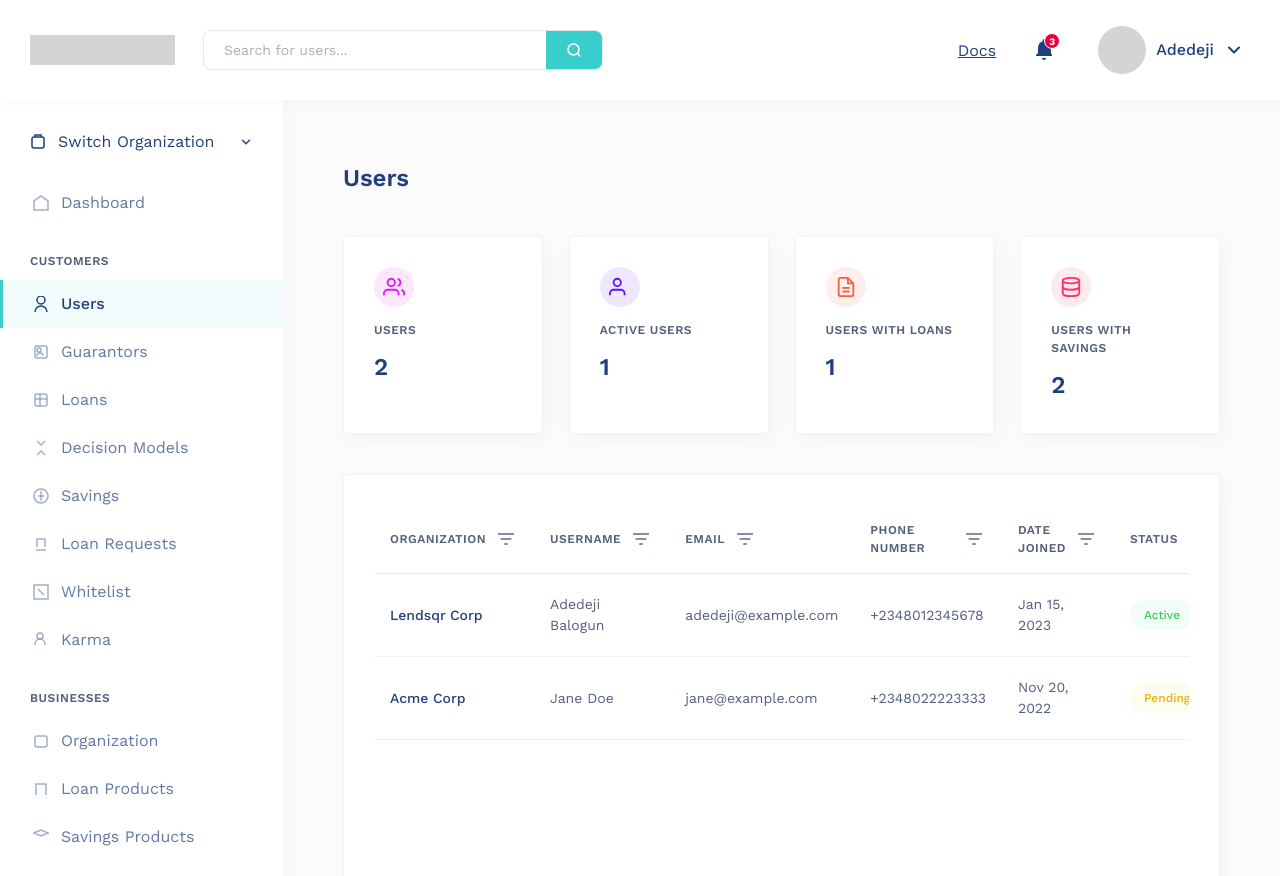
UsersList Page › toggles column header filter popover card when clicked
This screenshot has width=1280, height=876.
Expected: the text "Adedeji Balogun" is shown, x1=534 y1=574 x2=669 y2=656
# Find and click the organization filter button
Click the button named "Filter Organization".
click(506, 539)  # box x1=494 y1=529 x2=518 y2=549
(page scrolled)
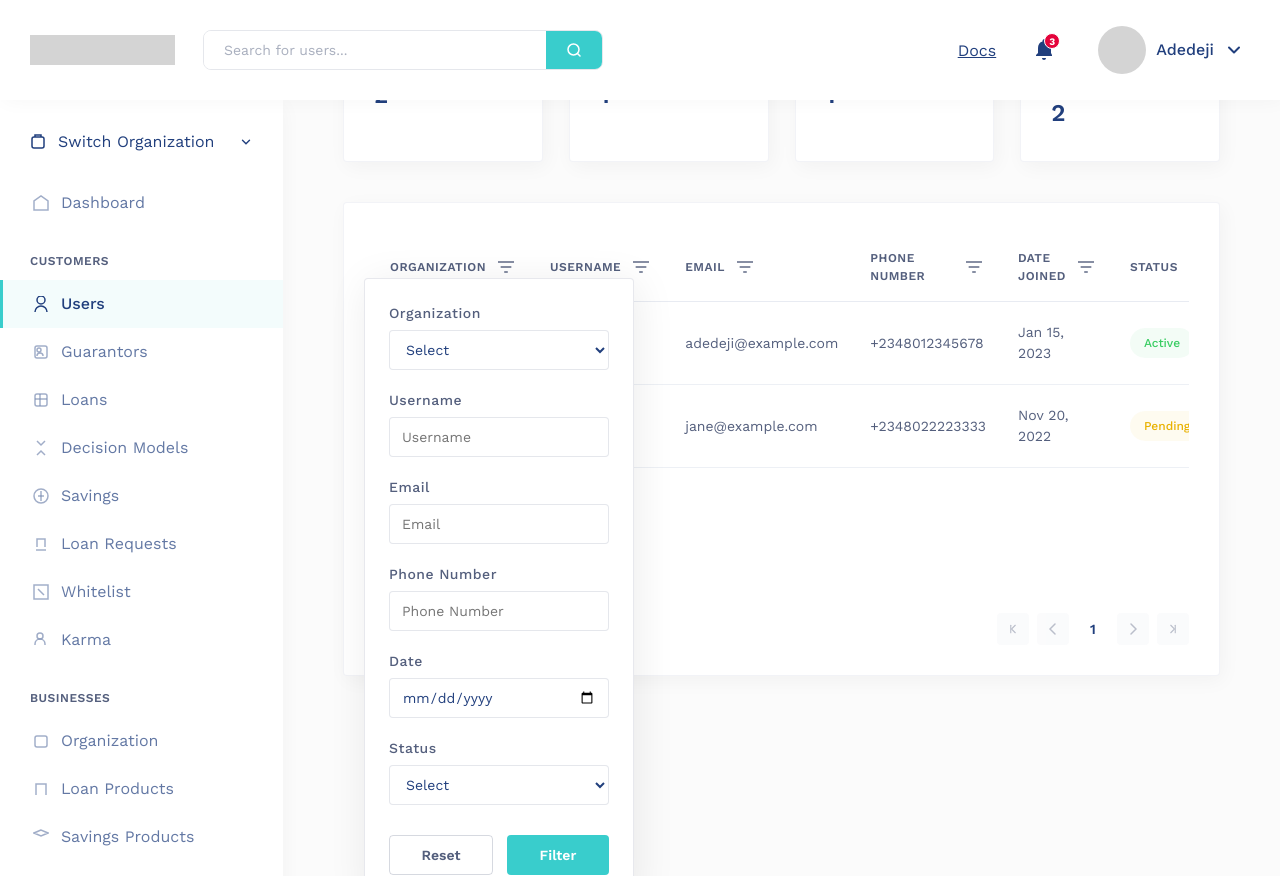
Now the text "Username" is shown, box x1=389 y1=392 x2=462 y2=408
